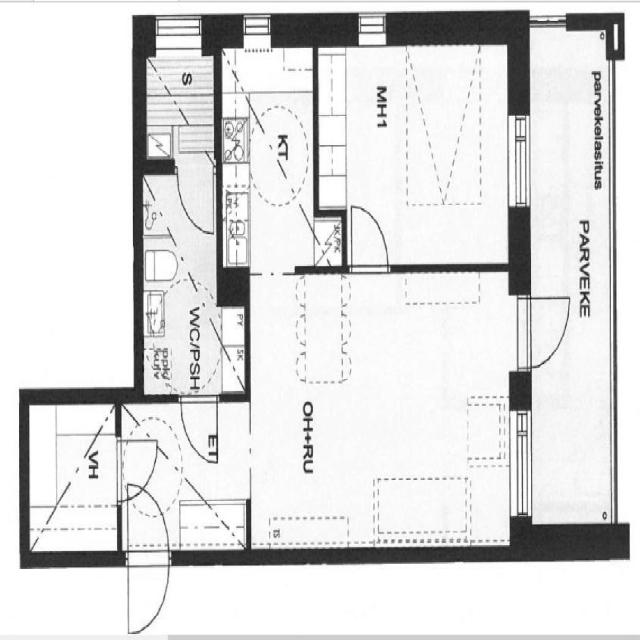door: (511, 280, 572, 374), (170, 375, 222, 465), (343, 203, 398, 283), (172, 156, 222, 238), (123, 490, 173, 568), (108, 428, 160, 497)
window: (506, 109, 537, 218), (511, 412, 539, 527), (154, 10, 204, 42), (241, 4, 273, 52), (352, 12, 390, 46)
zone: (242, 270, 512, 557), (316, 38, 514, 266), (219, 41, 314, 273), (139, 175, 217, 390), (27, 402, 120, 557), (140, 51, 217, 153)
